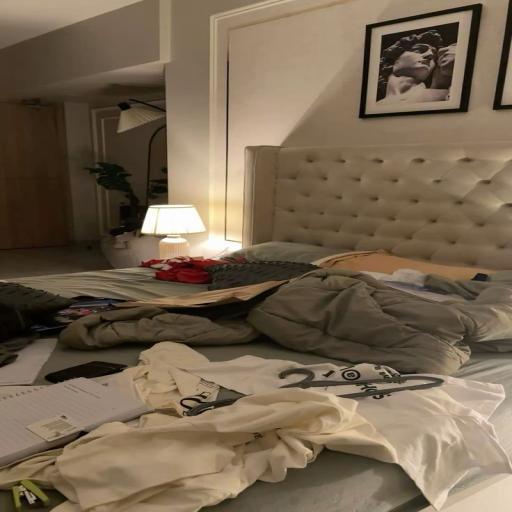person: (0, 138, 511, 512)
